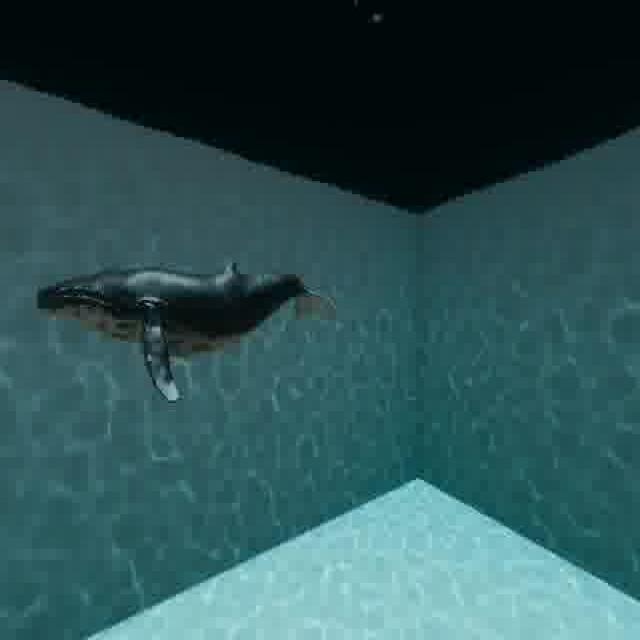Whale: (27, 223, 350, 430)
